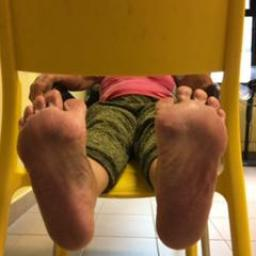Plantar View -Both Feet-: (7, 71, 242, 255)
